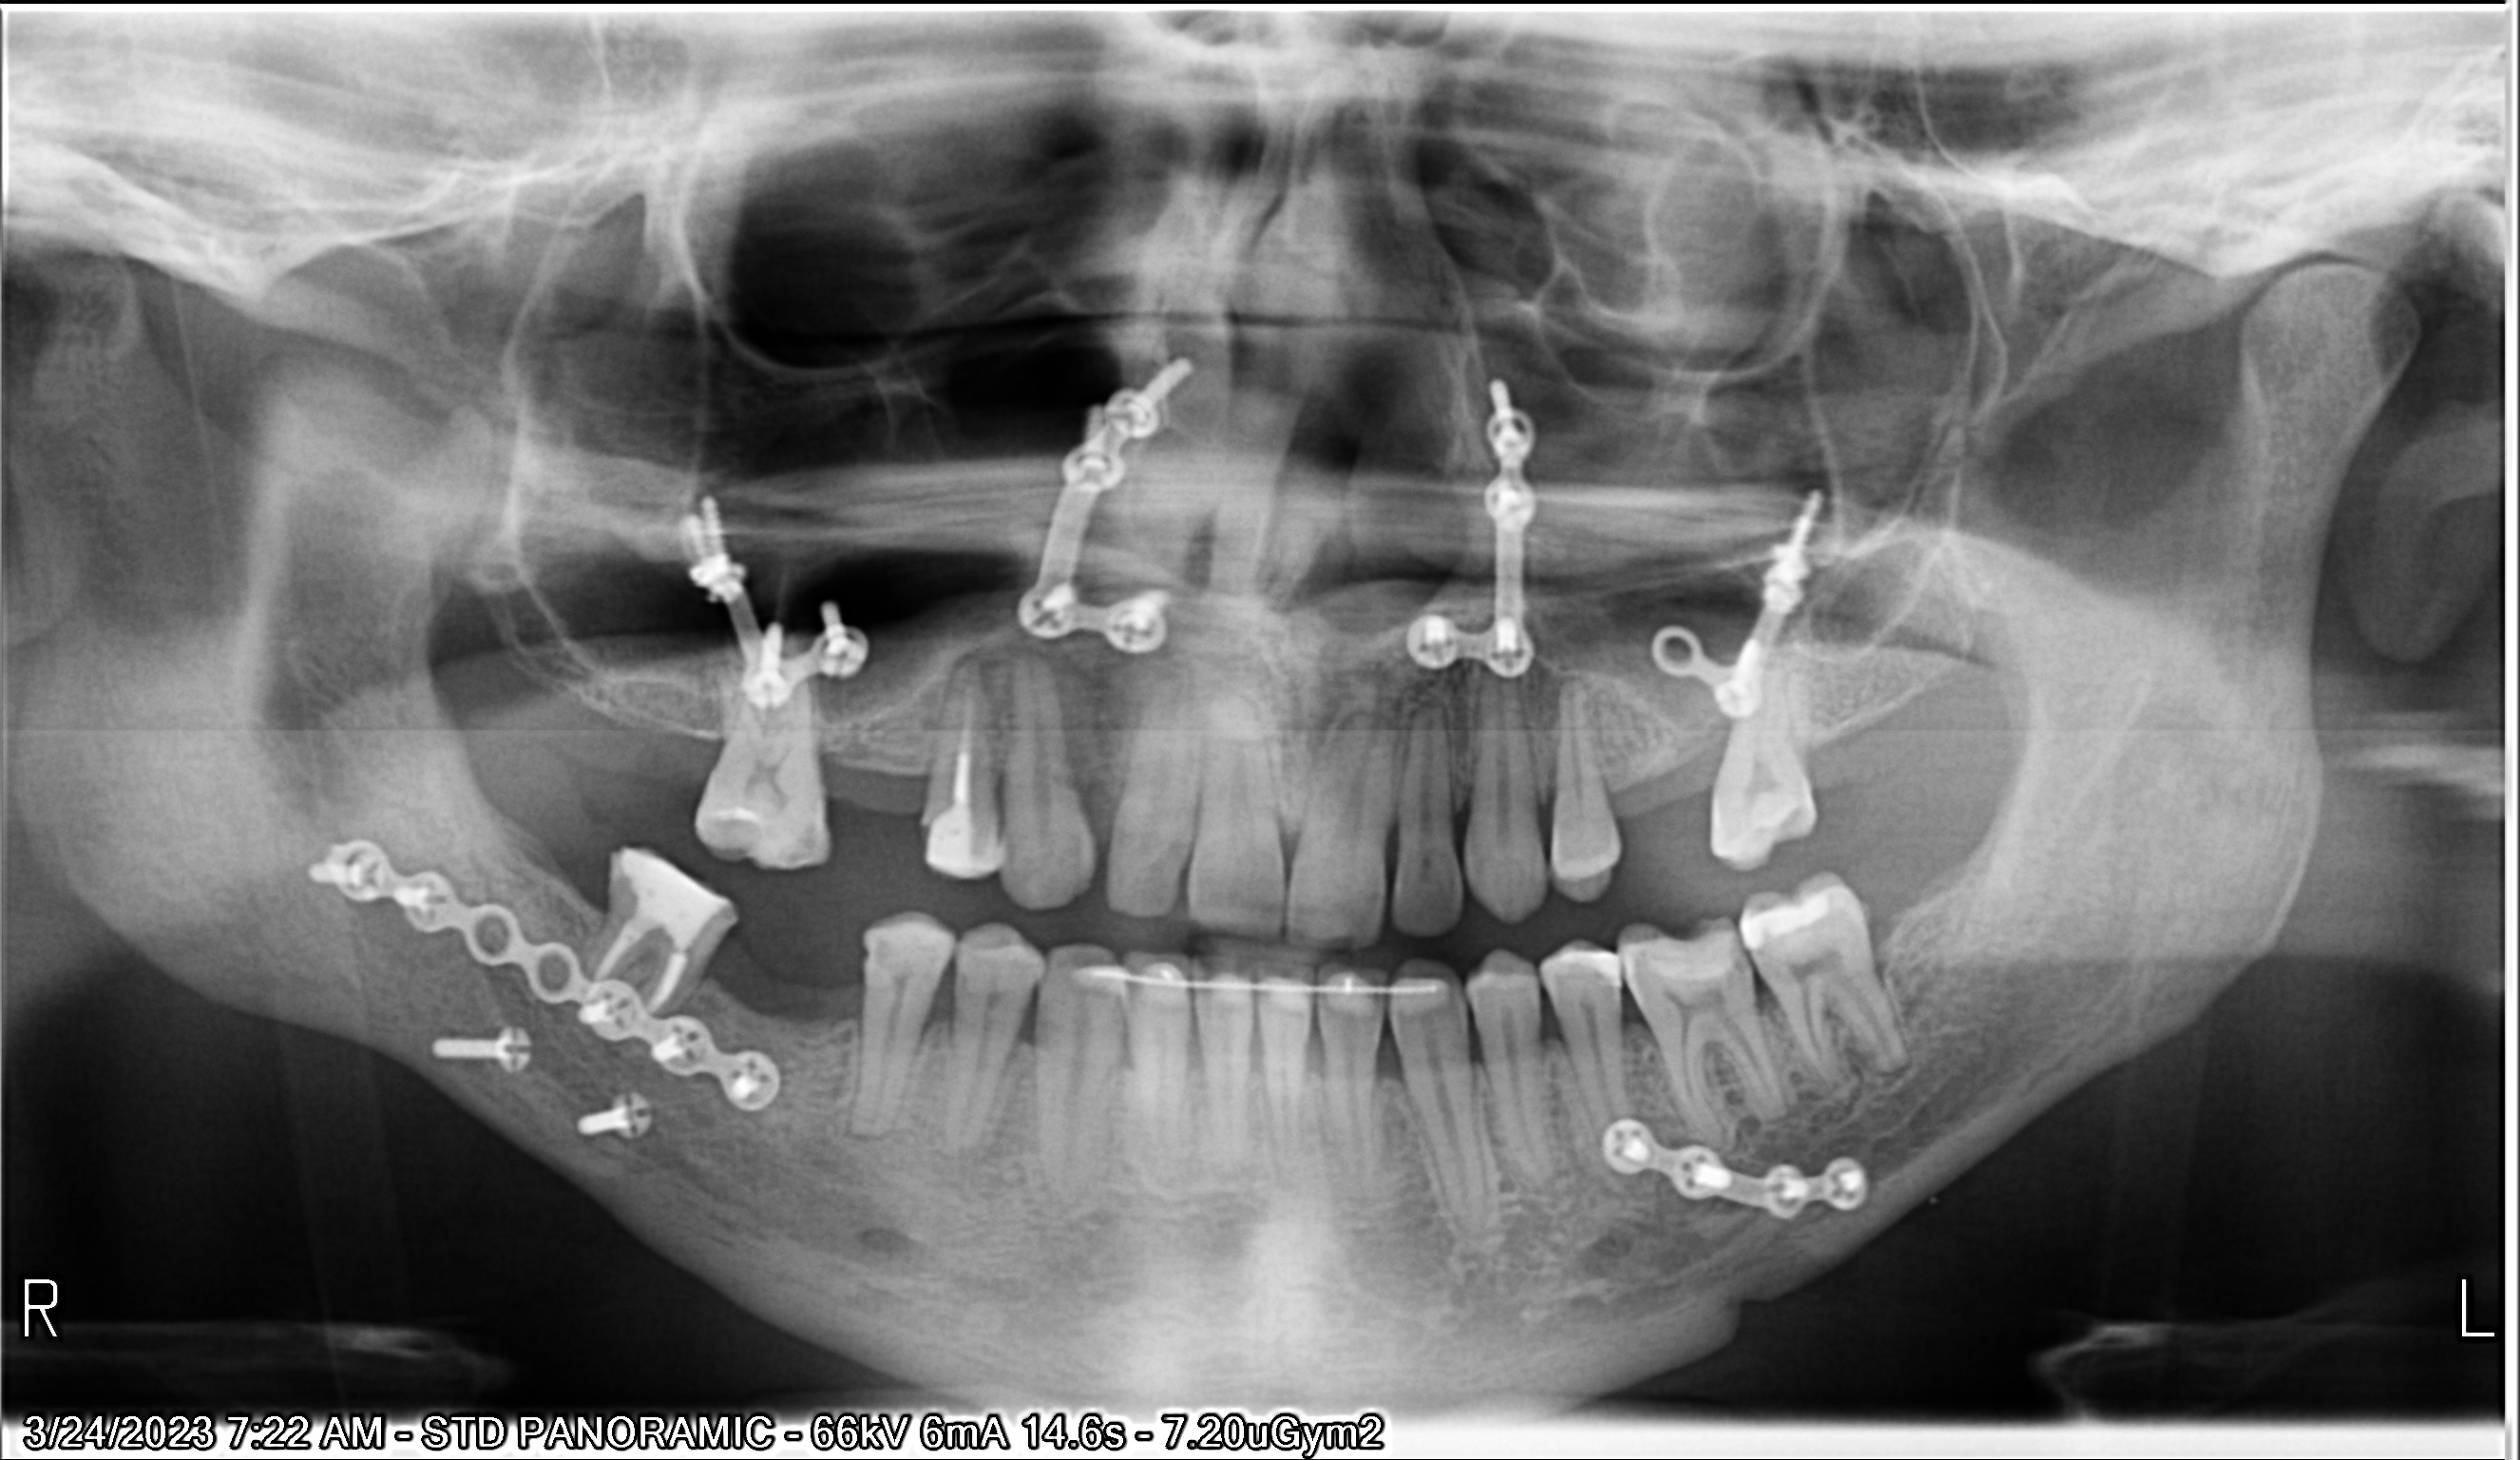API: (945, 636, 1011, 720)
APS: (1322, 685, 1412, 761), (828, 1093, 912, 1168)
CAR: (841, 923, 910, 980)
END: (587, 907, 644, 1053), (630, 947, 691, 1074), (952, 634, 980, 845)
OBT: (606, 843, 724, 963), (709, 775, 818, 871), (1622, 916, 1742, 979), (927, 812, 999, 892), (1740, 883, 1837, 937), (1577, 939, 1634, 991)
ORD: (292, 819, 801, 1161), (1009, 349, 1228, 685), (1372, 358, 1584, 704), (1638, 441, 1865, 758), (677, 474, 927, 709), (1598, 1090, 1909, 1277), (401, 991, 653, 1178), (1072, 940, 1443, 1027)
